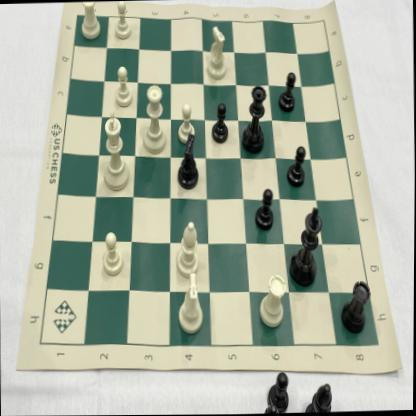black-king: (288, 206, 326, 289)
black-knight: (173, 133, 201, 190)
black-pawn: (283, 143, 308, 191), (276, 70, 298, 116), (254, 186, 275, 232), (210, 101, 229, 144)
black-queen: (240, 83, 269, 157)
black-rook: (339, 278, 373, 337)
white-bishop: (175, 219, 199, 279)
white-king: (100, 108, 131, 194)
white-knight: (176, 272, 206, 336), (205, 24, 229, 81)
white-pawn: (99, 230, 126, 277), (112, 64, 135, 109), (110, 1, 134, 42), (176, 102, 197, 145)
white-queen: (142, 81, 168, 156)
white-rook: (257, 271, 286, 330), (80, 1, 102, 44)
